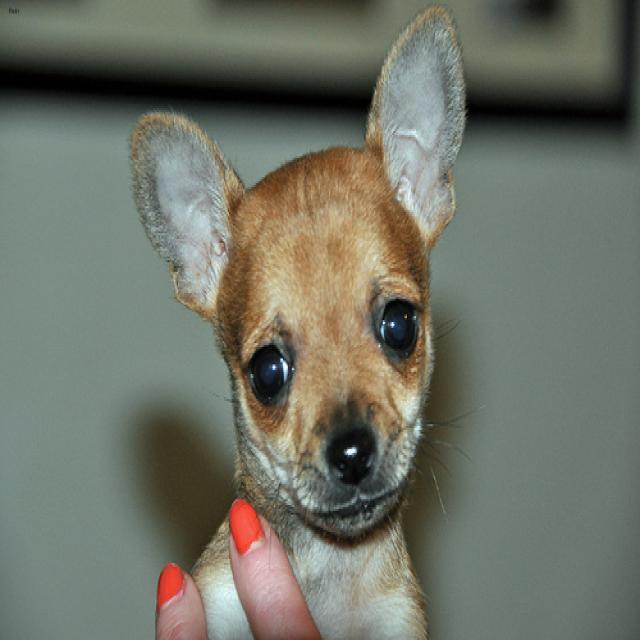dog-chihuahua: (125, 2, 484, 636)
